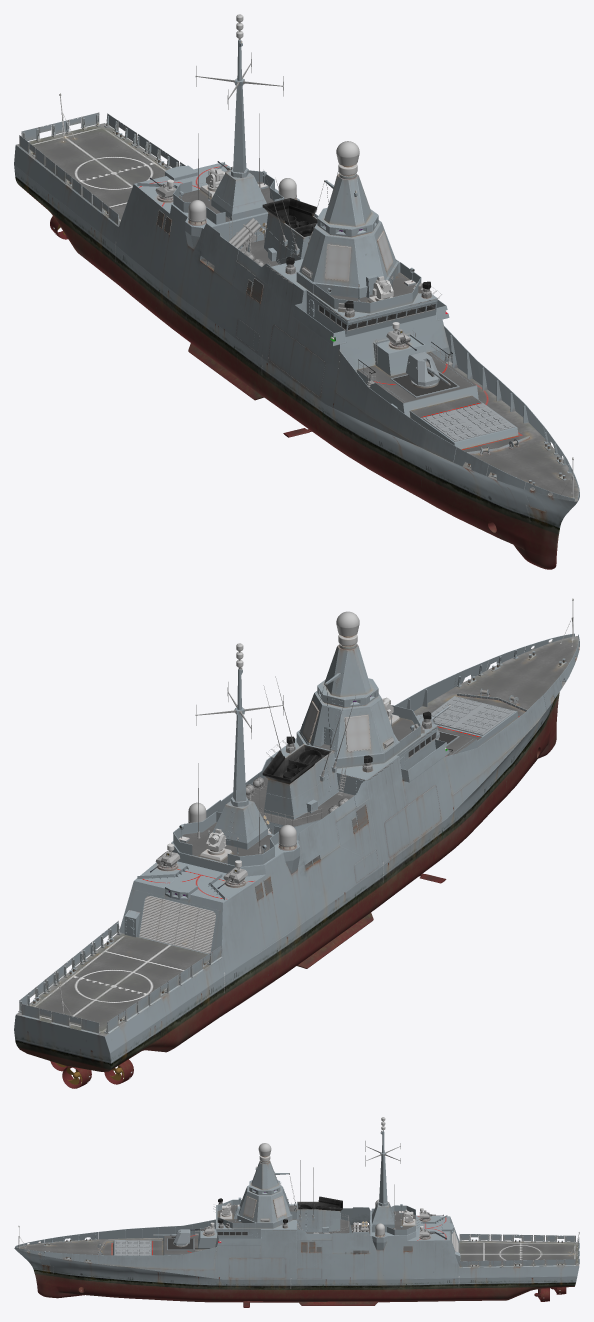
The model's file is fictional_frigate.glb.
3 views of the same model, one above another, from view 1: azimuth 30°, elevation 25°; view 2: azimuth 150°, elevation 25°; view 3: azimuth 270°, elevation 25° (orthographic). The views are drawn at different scales.
Visible parts, largest first — view 1: fuselage, mainmast_1, RCSSP_R1, sidepanel_1_L4, polySurface16, mainmust_3, RCSSP_L1, pCube645, RCSSP_front, main_raders, polySurface17, polySurface24 (+6 smaller); view 2: fuselage, mainmast_1, RCSSP_R1, sidepanel_1_L4, polySurface16, mainmust_3, pCube645, main_raders, polySurface17, mainmust_2, bilge_keel_R, RCSSP_L1 (+4 smaller); view 3: fuselage, RCSSP_L1, mainmast_1, sidepanel_1_L2, RCSSP_R1, pCube648, mainmust_3, polySurface16, pCube645, main_raders, polySurface17, polySurface26 (+4 smaller).
Part boxes in pixels (x1,y1,x2,y2): fuselage: (14,123,578,569); mainmast_1: (296,220,400,298); RCSSP_R1: (335,351,456,462); sidepanel_1_L4: (268,325,325,396); polySurface16: (211,171,266,220); mainmust_3: (324,173,371,226); RCSSP_L1: (444,326,545,438); pCube645: (198,223,238,284); RCSSP_front: (313,262,421,313); main_raders: (304,230,393,281); polySurface17: (231,78,248,177); polySurface24: (453,447,525,489); fuselage: (14,636,578,1071); mainmast_1: (296,691,400,768); RCSSP_R1: (444,695,546,794); sidepanel_1_L4: (384,785,440,857); polySurface16: (212,800,267,849); mainmust_3: (324,644,371,696); pCube645: (298,811,339,870); main_raders: (303,701,389,751); polySurface17: (231,707,248,806); mainmust_2: (317,678,378,707); bilge_keel_R: (297,912,373,968); RCSSP_L1: (395,673,456,711); fuselage: (14,1196,579,1302); RCSSP_L1: (99,1247,216,1269); mainmast_1: (237,1185,296,1228); sidepanel_1_L2: (229,1258,286,1278); RCSSP_R1: (99,1219,215,1239); pCube648: (332,1232,370,1253); mainmust_3: (251,1161,278,1189); polySurface16: (372,1202,394,1227); pCube645: (340,1207,370,1225); main_raders: (243,1196,286,1217); polySurface17: (378,1152,387,1206); polySurface26: (45,1251,98,1263).
Bounding box in the file's own units: 19.1 × 38.05 × 109.
Materials: 3 (3 with a texture image).
